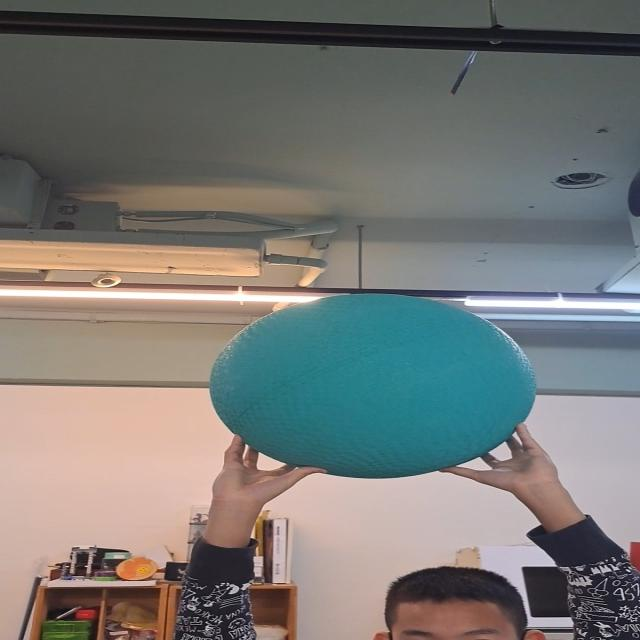ALGAE: (208, 294, 537, 480)
